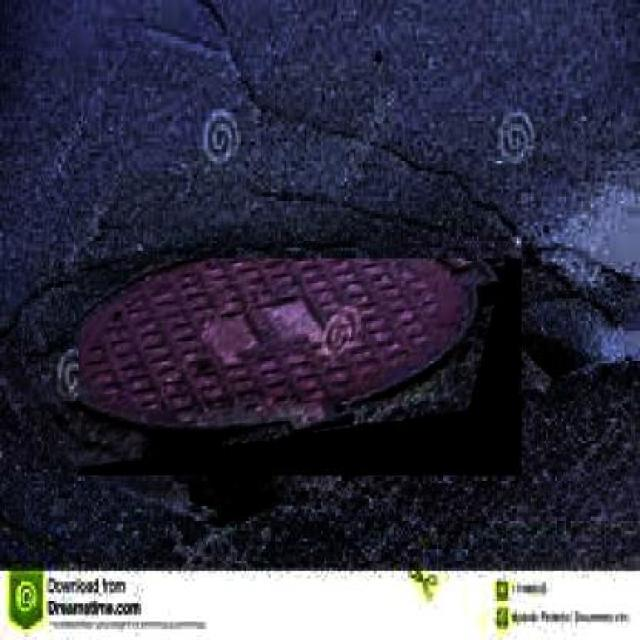Manhole: (79, 258, 522, 476)
